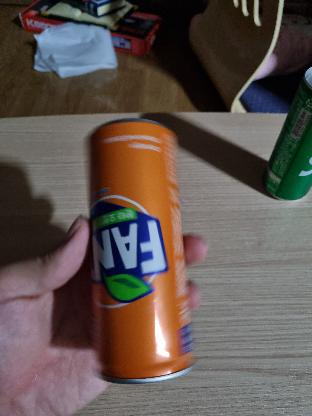Can: (84, 117, 198, 379)
